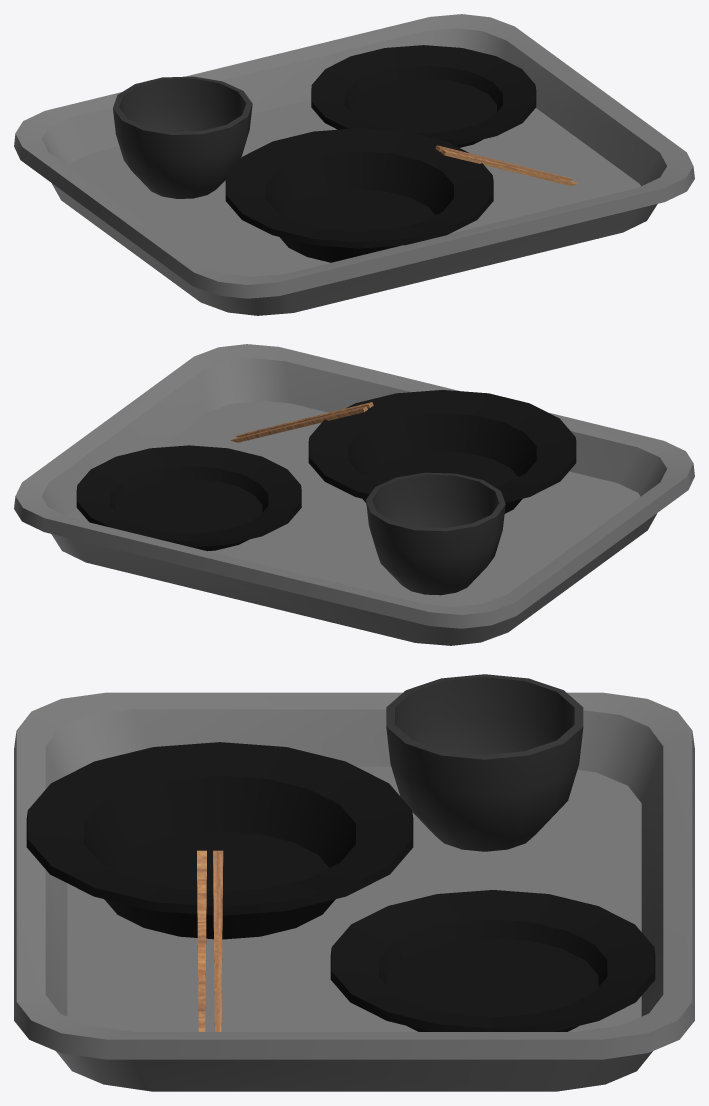
Rendered from SM_tray_food_02.fbx.
3 views of the same model, one above another, from view 1: azimuth 30°, elevation 25°; view 2: azimuth 150°, elevation 25°; view 3: azimuth 270°, elevation 25° (orthographic). The views are drawn at different scales.
Parts seen in each view (by area): view 1: tray01; view 2: tray01; view 3: tray01.
Boxes of the visible parts, bbox=[...] form: tray01: bbox=[14, 14, 694, 315]; tray01: bbox=[14, 344, 694, 645]; tray01: bbox=[14, 674, 694, 1091].
Bounding box in the file's own units: 19.64 × 3.39 × 16.19.
Materials: 4 (1 with a texture image).
